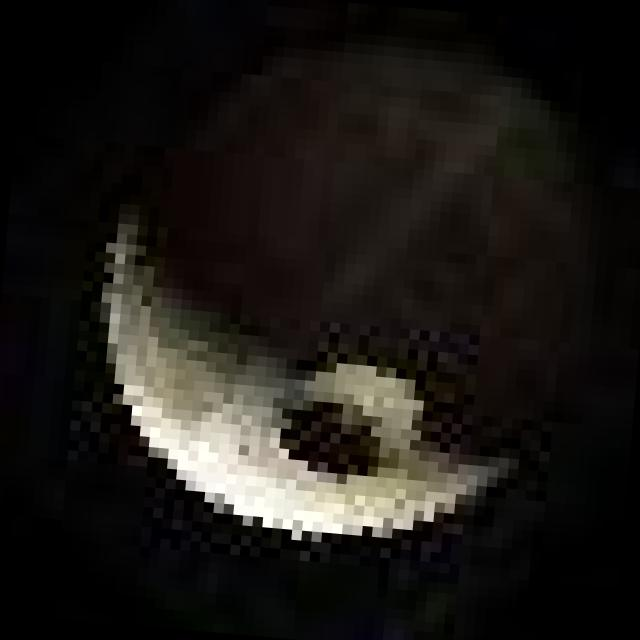Death Star: (81, 21, 614, 550)
